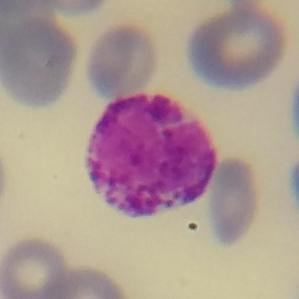Basophil: (76, 85, 223, 230)
RBC: (182, 1, 294, 92), (3, 17, 82, 112), (82, 19, 162, 101), (206, 153, 264, 248), (0, 233, 76, 299), (0, 0, 61, 79), (42, 263, 133, 299), (25, 0, 112, 18), (286, 148, 299, 228), (0, 130, 10, 221), (288, 78, 299, 137)
